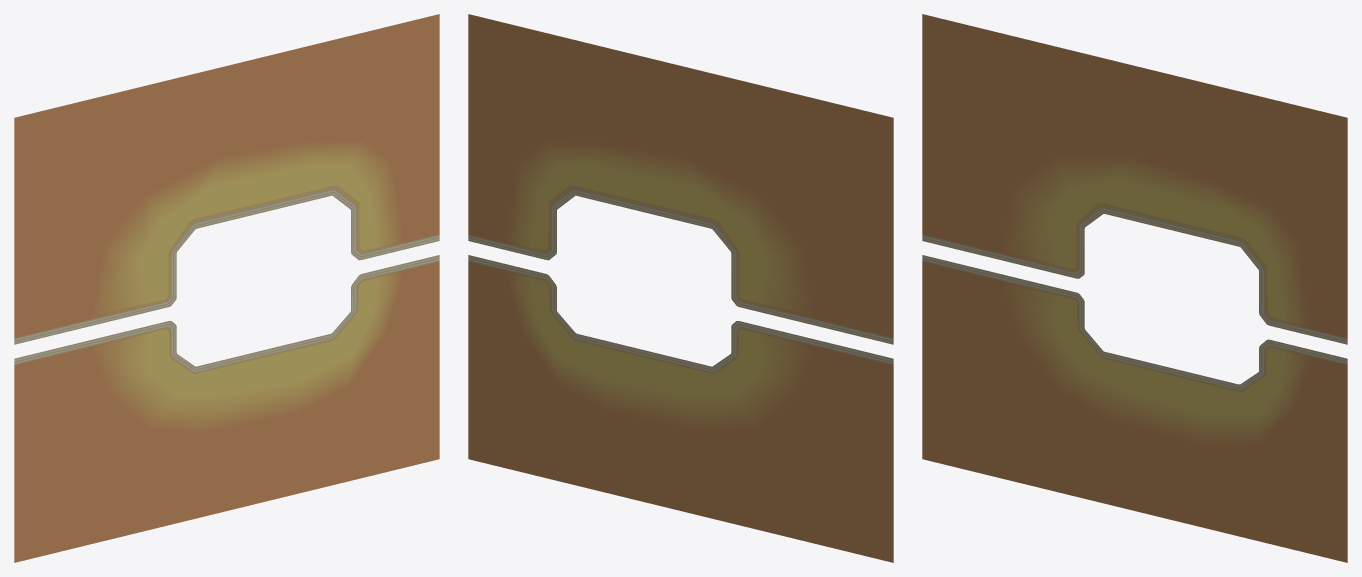
Rendered from Terrain_LevelWhisk.fbx.
3 renders of one model, left to right at view 1: azimuth 30°, elevation 25°; view 2: azimuth 150°, elevation 25°; view 3: azimuth 330°, elevation 25°, orthographic.
Visible parts, largest first — view 1: Terrain_LevelWhisk; view 2: Terrain_LevelWhisk; view 3: Terrain_LevelWhisk.
Part boxes in pixels (<box>): Terrain_LevelWhisk: <box>14,14,439,562</box>; Terrain_LevelWhisk: <box>468,14,893,562</box>; Terrain_LevelWhisk: <box>922,14,1347,562</box>.
Size of the model in its own units: 16196 by 16196 by 7.63e-06.
